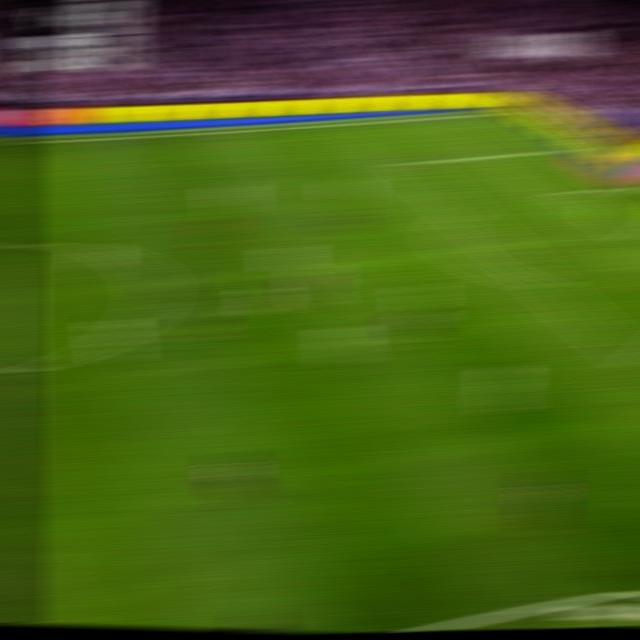bigarea_top_inner: (393, 155, 424, 171)
bottom_arc_area_intersection: (530, 275, 564, 294)
halfcircle_bottom: (0, 354, 28, 385)
halfcircle_top: (0, 231, 25, 256)
smallarea_top_inner: (555, 186, 586, 198)
top_arc_area_intersection: (448, 203, 478, 217)
